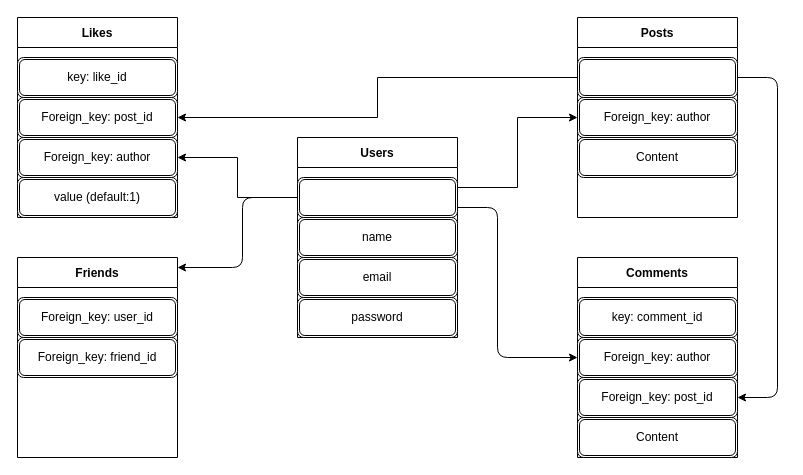
The diagram is 803 pixels wide and 475 high, and some of its shapes have lost their labels. Each missing label, with the centre of its shape:
key: post_id: pixel 657 77
key: user_id: pixel 377 197
